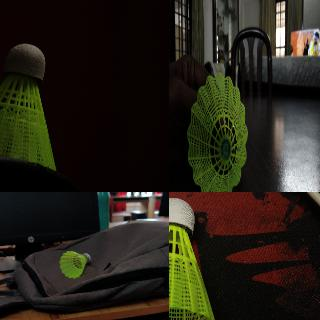shuttlecock: (0, 43, 56, 171), (187, 73, 247, 192), (169, 197, 216, 319), (60, 250, 88, 276)
